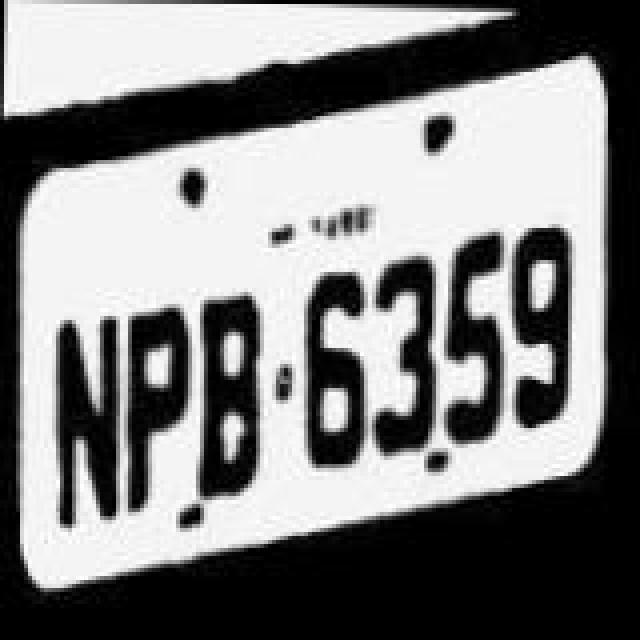3: (370, 230, 442, 462)
5: (440, 192, 516, 448)
6: (296, 250, 372, 478)
9: (506, 180, 586, 440)
B: (196, 254, 280, 498)
N: (52, 264, 124, 532)
P: (120, 280, 192, 520)
